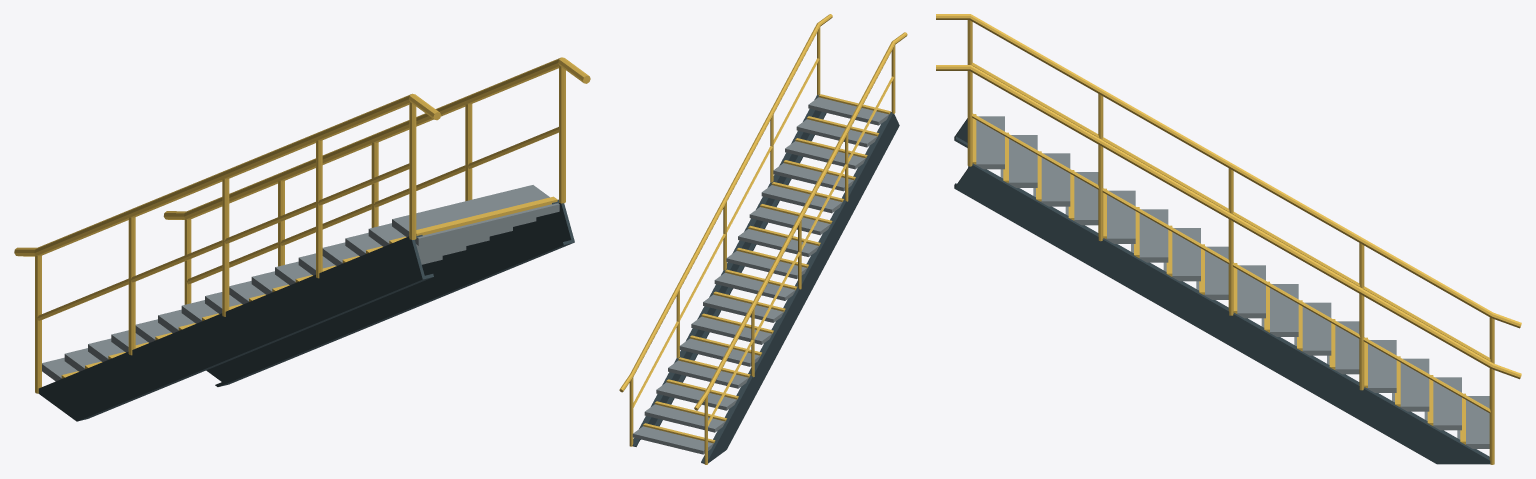
The model's file is sm_env_depot_stair.glb.
The picture shows the model from 3 angles, left to right: view 1: azimuth 30°, elevation 25°; view 2: azimuth 150°, elevation 25°; view 3: azimuth 270°, elevation 25°; orthographic projection. The views are drawn at different scales.
Parts seen in each view (by area): view 1: StringerWeb, StringerWeb.001, HandRail, HandRail.001, Tread.015, MidRail, MidRail.001, StringerFlange.002, TreadNose.015, Post.004, Post.001, Tread.014 (+12 smaller); view 2: StringerWeb, HandRail, HandRail.001, StringerFlange.001, MidRail, MidRail.001, StringerWeb.001, Tread, Tread.001, StringerFlange.003, Tread.007, Tread.003 (+15 smaller); view 3: StringerWeb.001, HandRail, HandRail.001, MidRail.001, MidRail, StringerFlange.003, Tread.013, Tread.002, Tread.010, Tread.005, Tread.001, Tread.009 (+10 smaller).
Boxes of the visible parts, x1,y1,x2,y2 form: StringerWeb: [38, 236, 425, 421]; StringerWeb.001: [206, 203, 574, 384]; HandRail: [14, 93, 441, 256]; HandRail.001: [163, 57, 590, 219]; Tread.015: [392, 185, 559, 245]; MidRail: [37, 163, 409, 320]; MidRail.001: [186, 127, 558, 284]; StringerFlange.002: [215, 240, 571, 386]; TreadNose.015: [416, 196, 557, 235]; Post.004: [409, 102, 416, 239]; Post.001: [128, 217, 135, 355]; Tread.014: [368, 217, 536, 249]; StringerWeb: [708, 113, 899, 463]; HandRail: [694, 32, 907, 410]; HandRail.001: [619, 14, 832, 392]; StringerFlange.001: [701, 112, 892, 463]; MidRail: [708, 76, 893, 425]; MidRail.001: [633, 58, 819, 407]; StringerWeb.001: [633, 94, 821, 440]; Tread: [632, 426, 713, 454]; Tread.001: [644, 404, 725, 432]; StringerFlange.003: [632, 94, 819, 446]; Tread.007: [714, 273, 795, 300]; Tread.003: [668, 360, 748, 388]; StringerWeb.001: [954, 164, 1490, 464]; HandRail: [936, 14, 1521, 328]; HandRail.001: [936, 65, 1521, 379]; MidRail.001: [971, 113, 1490, 413]; MidRail: [971, 63, 1490, 361]; StringerFlange.003: [972, 163, 1489, 459]; Tread.013: [1033, 153, 1070, 206]; Tread.002: [1392, 358, 1429, 411]; Tread.010: [1131, 209, 1168, 262]; Tread.005: [1294, 302, 1331, 355]; Tread.001: [1424, 377, 1461, 430]; Tread.009: [1163, 228, 1200, 281].
Size of the model in its own units: 1.12 by 3.88 by 5.16.
